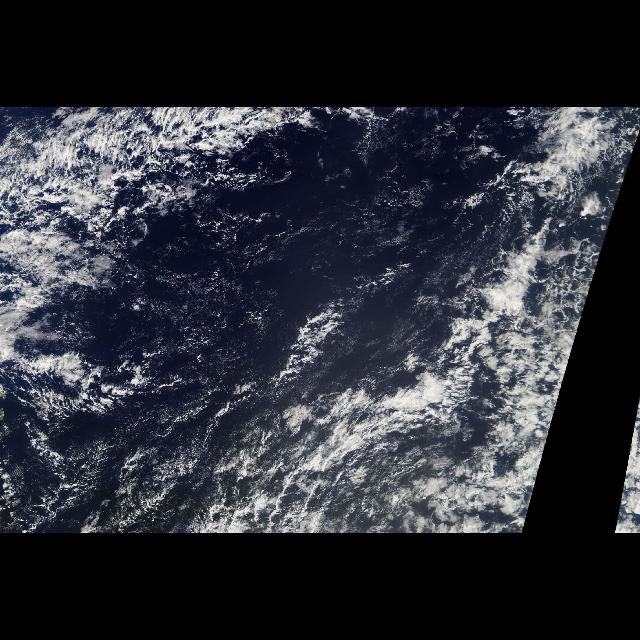Gravel: (67, 119, 420, 393)
